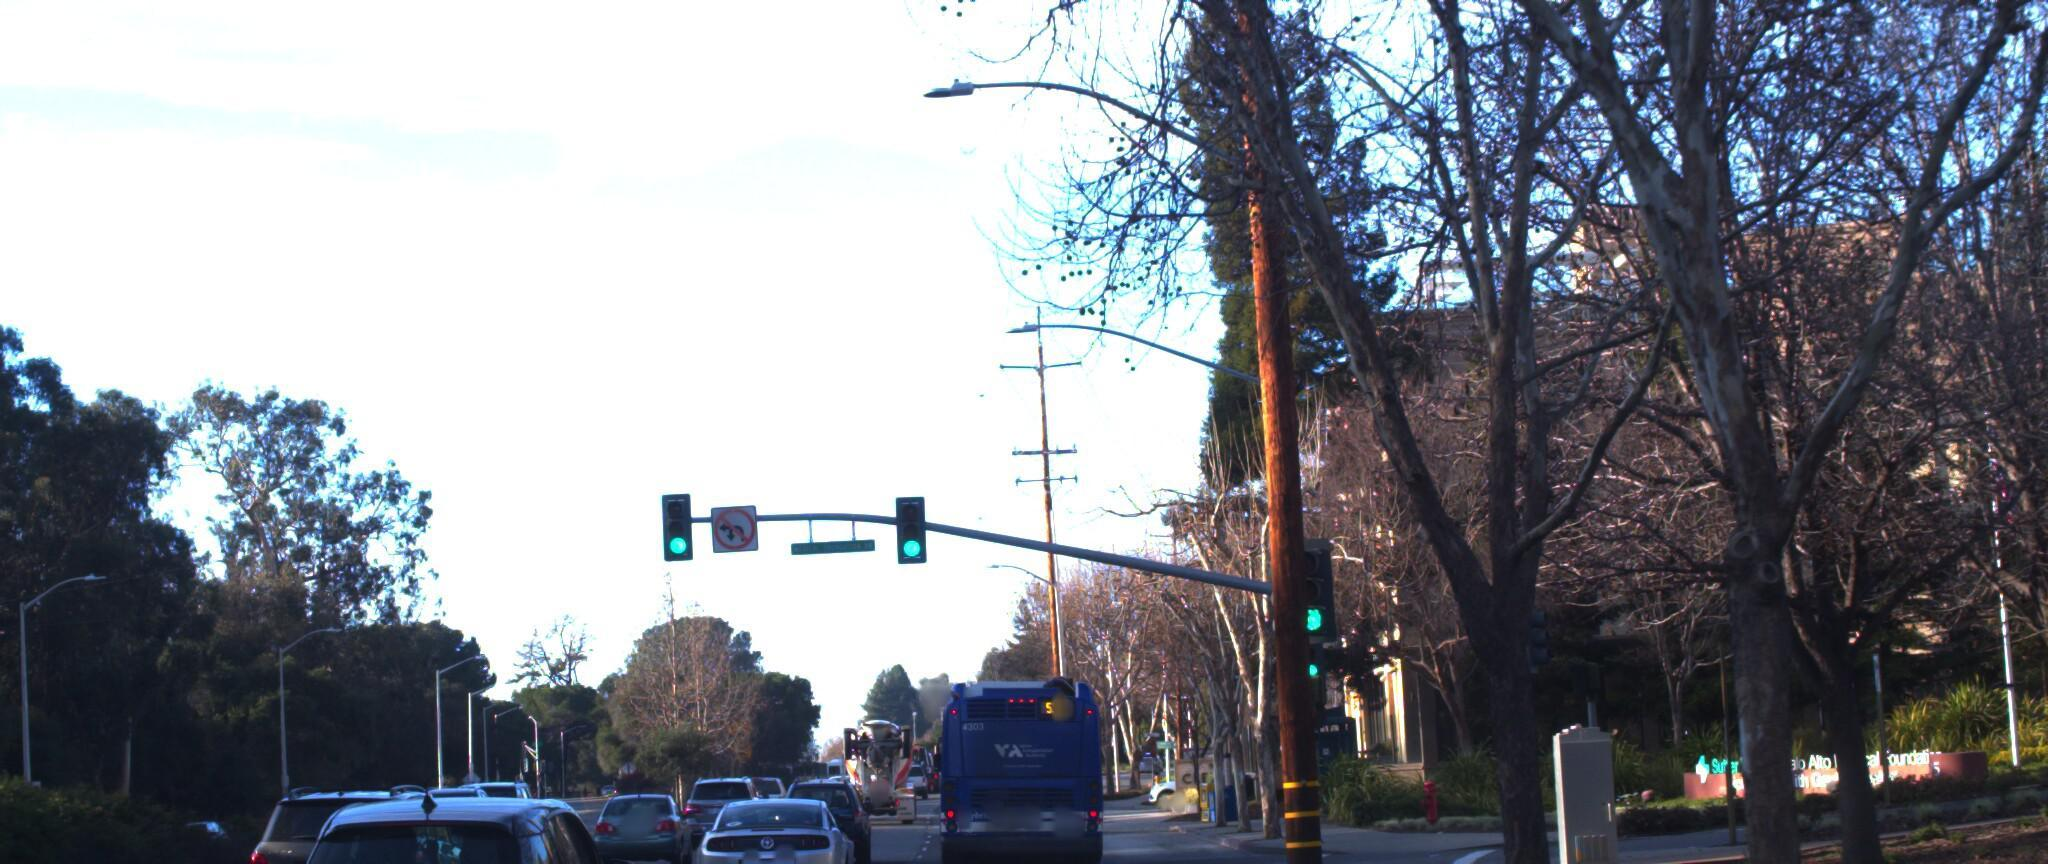bus: (929, 641, 1115, 864)
car: (249, 753, 656, 864), (236, 766, 488, 864), (688, 766, 853, 864), (771, 760, 876, 850), (576, 780, 683, 864), (686, 766, 778, 851)
